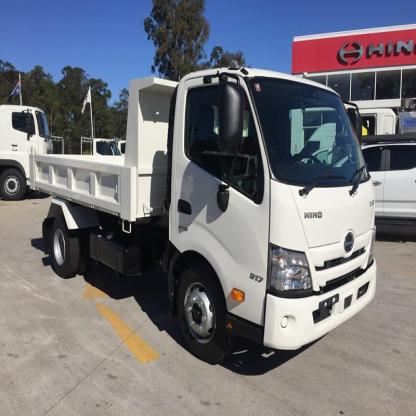dump_truck: (28, 54, 384, 371)
